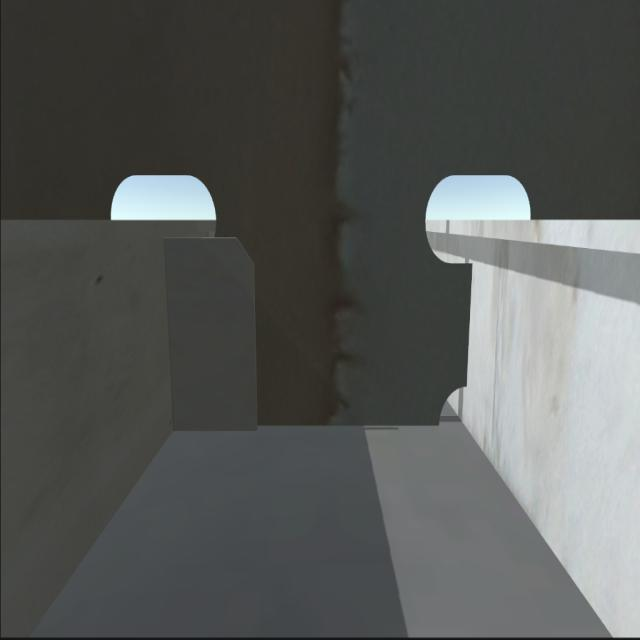fillet_hole: (435, 380, 468, 431)
fillet_yong_jeop_jang: (168, 413, 438, 436)
longi_yong_jeop_jang: (156, 246, 185, 430), (460, 262, 485, 387)
plate_CP03: (162, 238, 262, 430)
